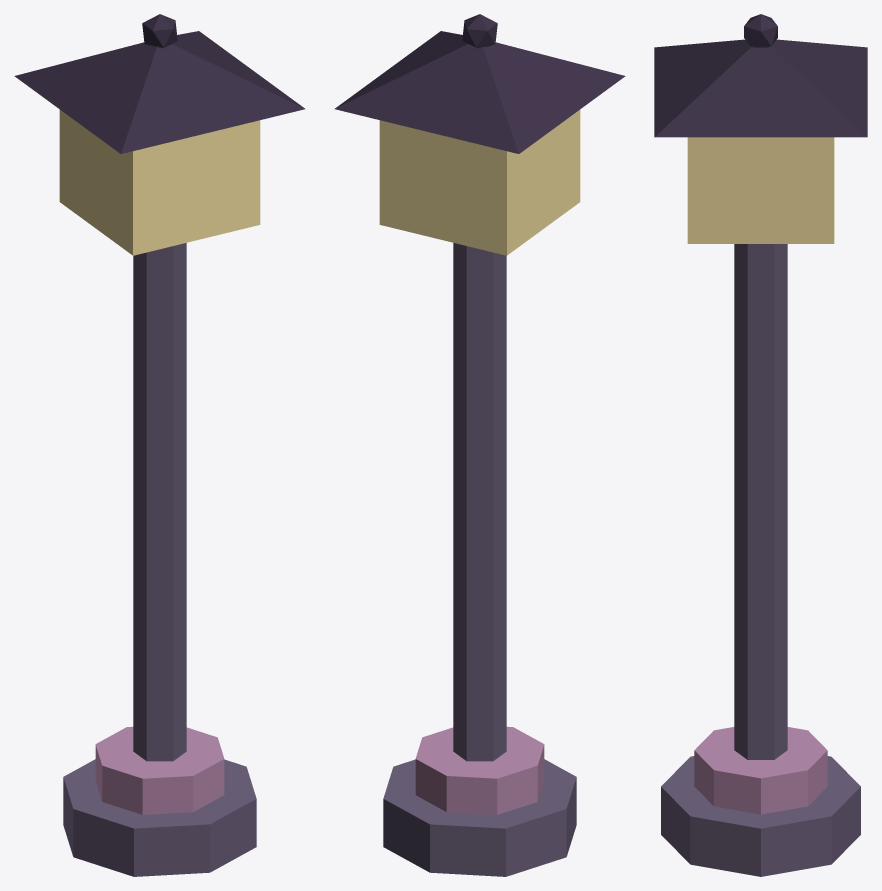
The model's file is lamp-post.glb.
3 views of the same model, side by side, from view 1: azimuth 30°, elevation 25°; view 2: azimuth 150°, elevation 25°; view 3: azimuth 270°, elevation 25° (orthographic).
Visible parts, largest first — view 1: city-lamp-post; view 2: city-lamp-post; view 3: city-lamp-post.
Part boxes in pixels (<box>): city-lamp-post: <box>14,14,305,876</box>; city-lamp-post: <box>334,14,625,876</box>; city-lamp-post: <box>654,14,867,876</box>.
Bounding box in the file's own units: 0.32 × 1.36 × 0.32.
